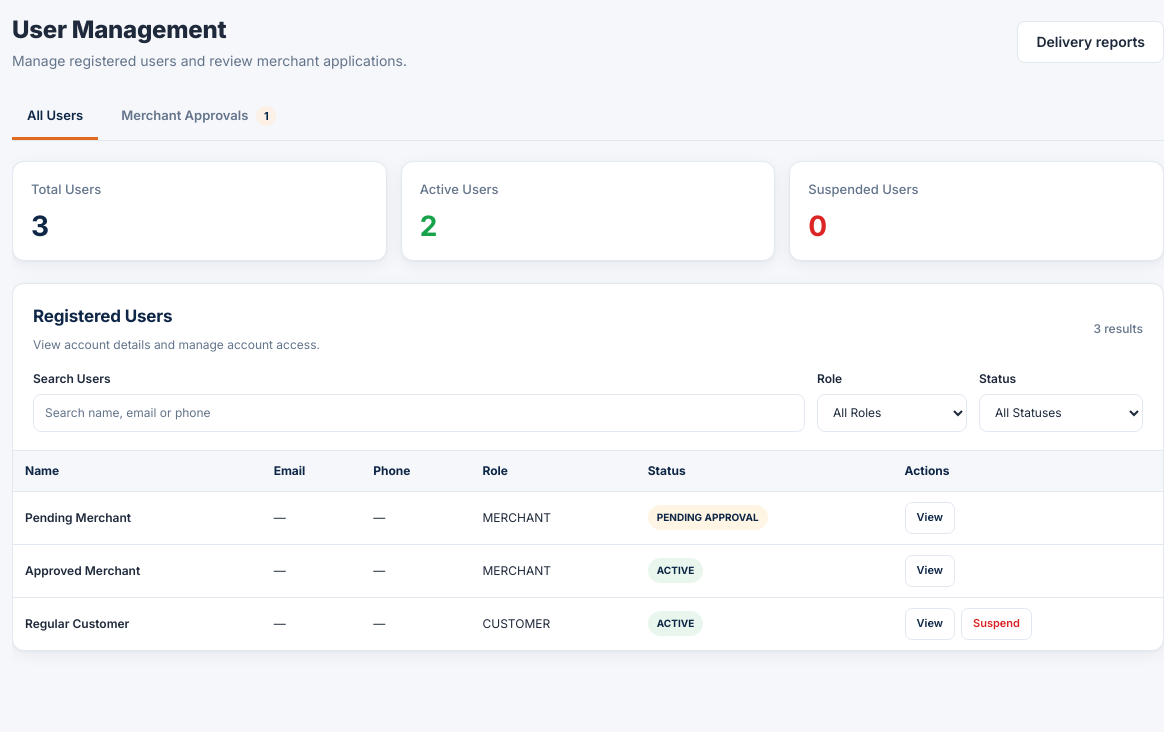
Test: shows other users and only merchants with pending or approved applications in All Users
Expected: the text "Pending Merchant" is shown, top-left (25, 510), bottom-right (131, 524)
Expected: the text "Approved Merchant" is shown, top-left (25, 562), bottom-right (140, 578)
Select "MERCHANT" in the dropdown labelled "Role" at [892, 412], box top-left (817, 394), bottom-right (967, 432)
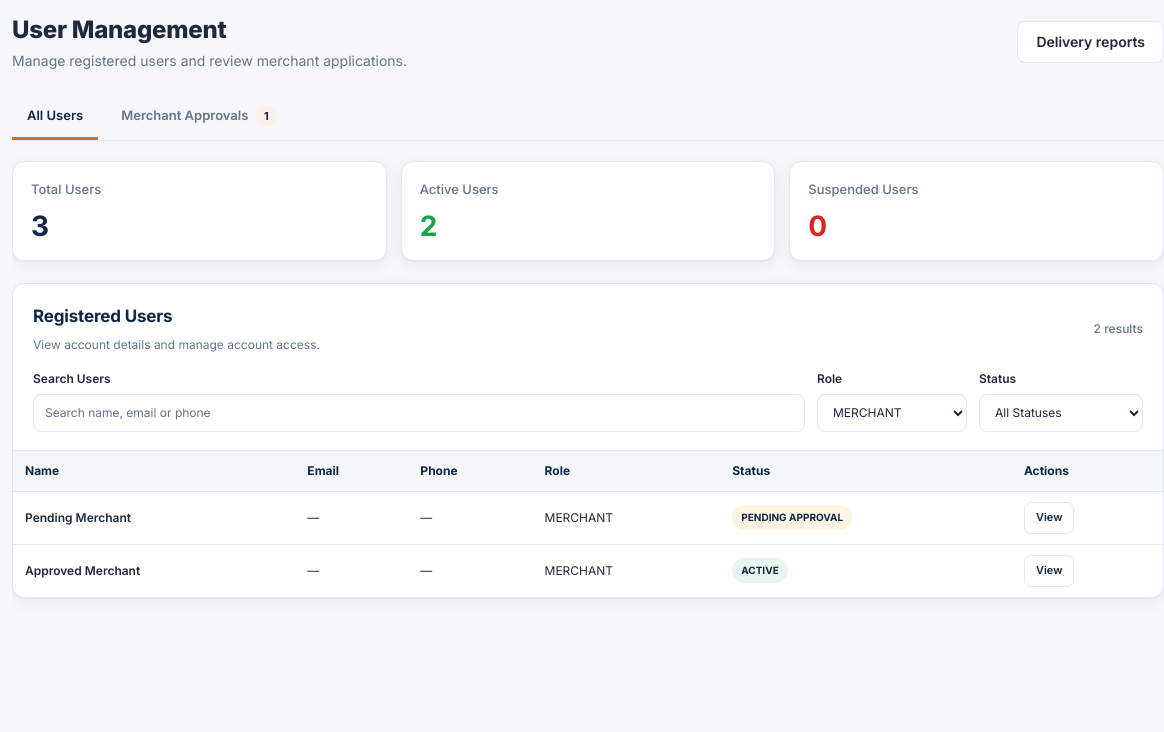
Expected: the text "Pending Merchant" is shown, top-left (25, 510), bottom-right (131, 524)
Expected: the text "Regular Customer" is gone
Click the button "Merchant Approvals 1" at [199, 118], box top-left (106, 95), bottom-right (291, 140)
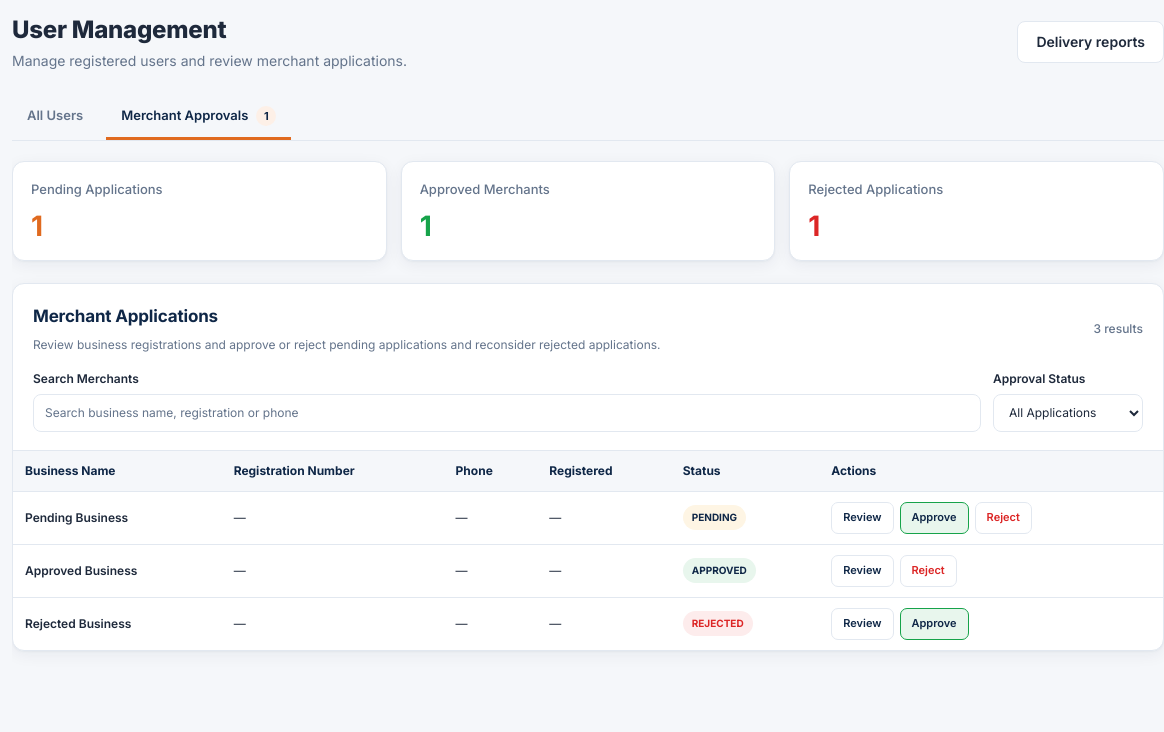
Expected: the text "Rejected Business" is shown, top-left (25, 616), bottom-right (131, 630)
Expected: the button "Approve" in the row of "Rejected Business" is shown, top-left (900, 608), bottom-right (969, 640)
